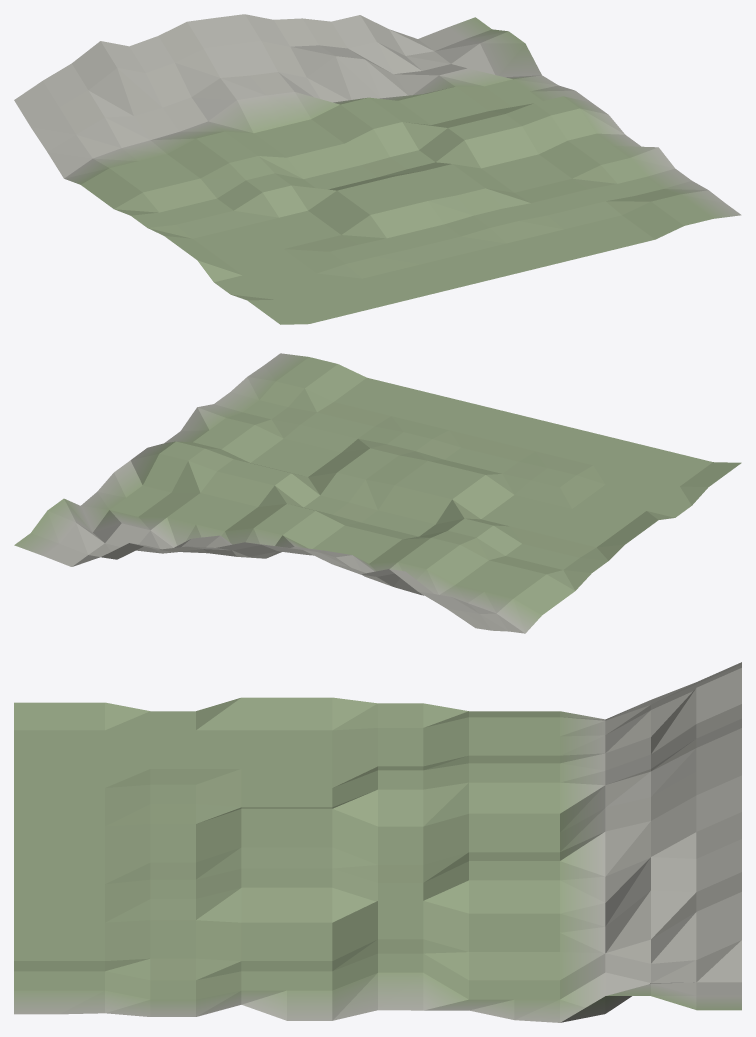
3 renders of one model, top to bottom at view 1: azimuth 30°, elevation 25°; view 2: azimuth 150°, elevation 25°; view 3: azimuth 270°, elevation 25°, orthographic. The views are drawn at different scales.
Bounding box in the file's own units: 32 × 5.61 × 32.
